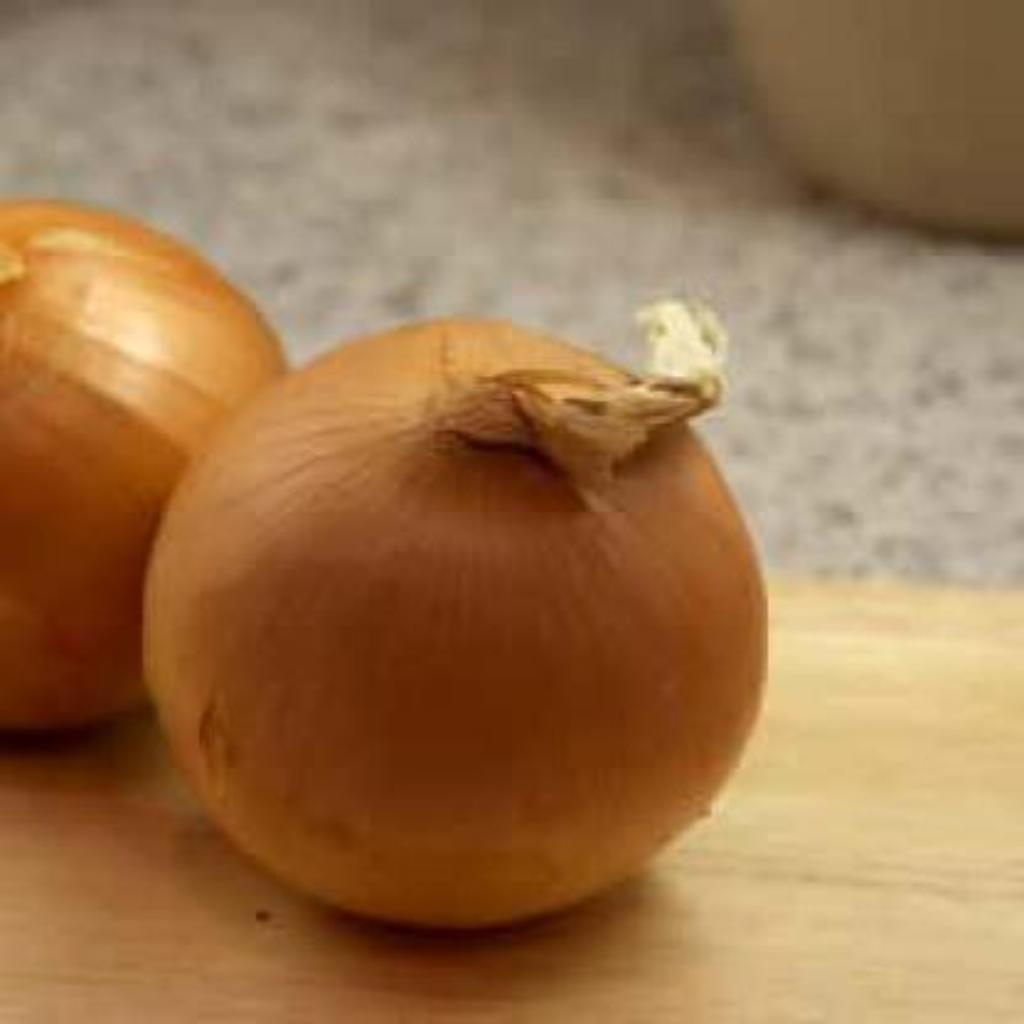Onion: (145, 320, 768, 929), (0, 199, 286, 730)
